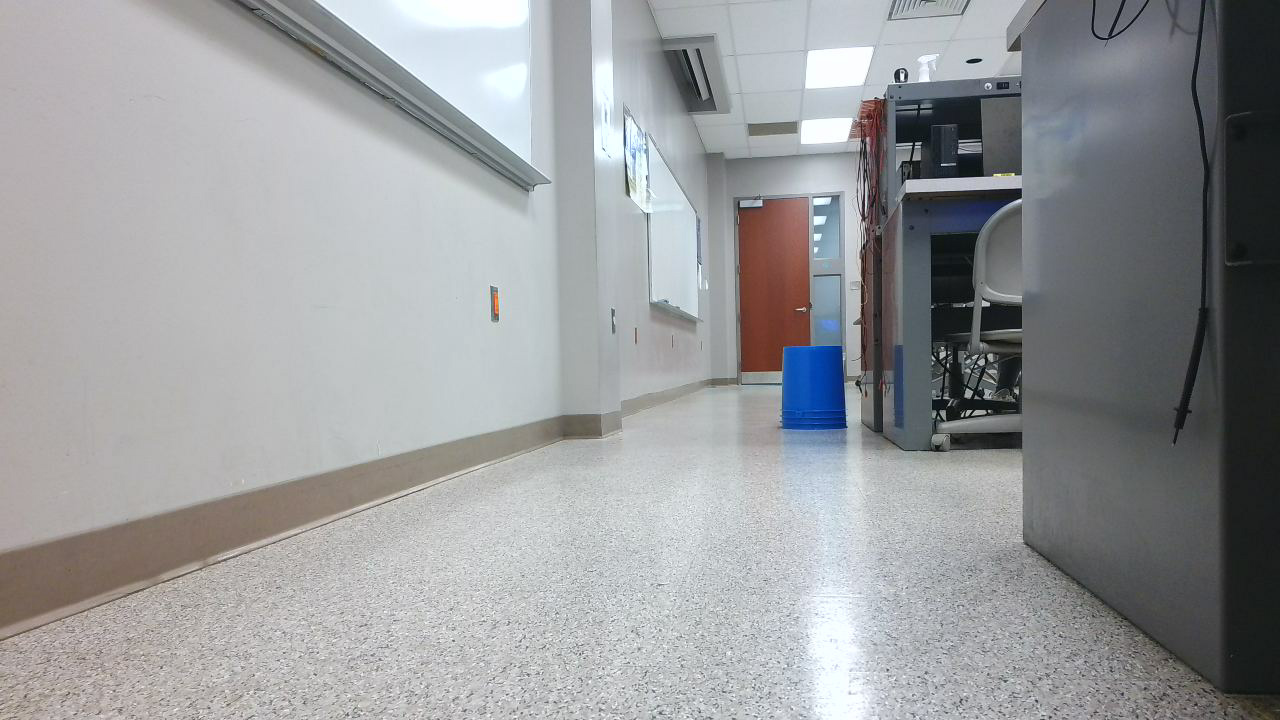blue_bucket: (779, 347, 857, 440)
